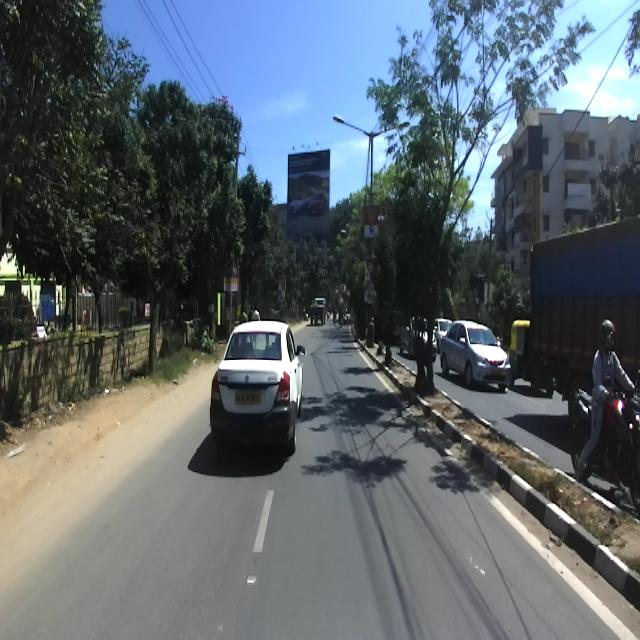car ahead at: (208, 315, 309, 454)
tree ahead at: (128, 82, 224, 372)
